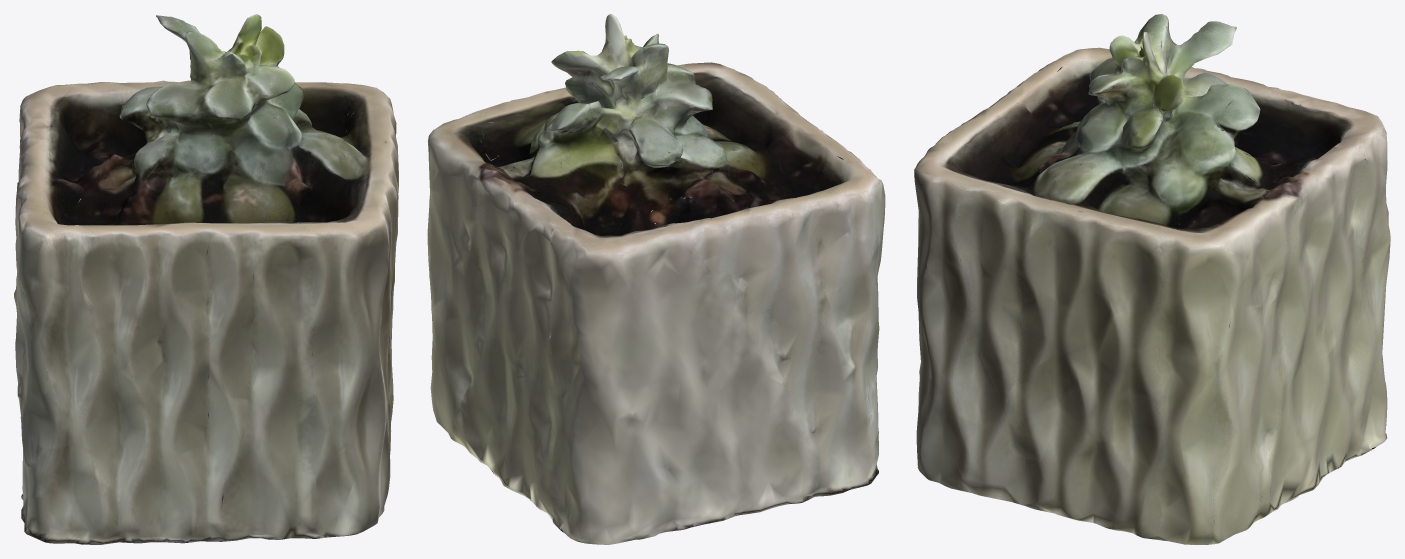
The model's file is succulent-planter.glb.
The picture shows the model from 3 angles, left to right: view 1: azimuth 30°, elevation 25°; view 2: azimuth 150°, elevation 25°; view 3: azimuth 270°, elevation 25°; orthographic projection. The views are drawn at different scales.
Visible parts, largest first — view 1: Object_2, Object_3; view 2: Object_3, Object_2; view 3: Object_2, Object_3.
Boxes of the visible parts, bbox=[...] form: Object_2: bbox=[15, 14, 398, 544]; Object_3: bbox=[14, 16, 362, 500]; Object_3: bbox=[467, 46, 828, 544]; Object_2: bbox=[427, 14, 885, 520]; Object_2: bbox=[914, 14, 1367, 544]; Object_3: bbox=[1160, 24, 1390, 501].
Size of the model in its own units: 12.22 by 12.48 by 11.99.
Materials: 1 (1 with a texture image).
